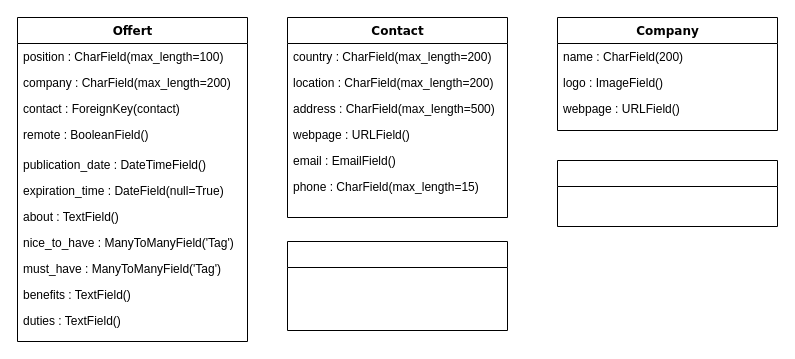
The diagram is 795 pixels wide and 359 high, and some of its shapes have lost their labels. Here are the shapes that lost their labels. From the top down, the centre of each, then its label:
At (667,193): "User".
At (397,285): "Application".
